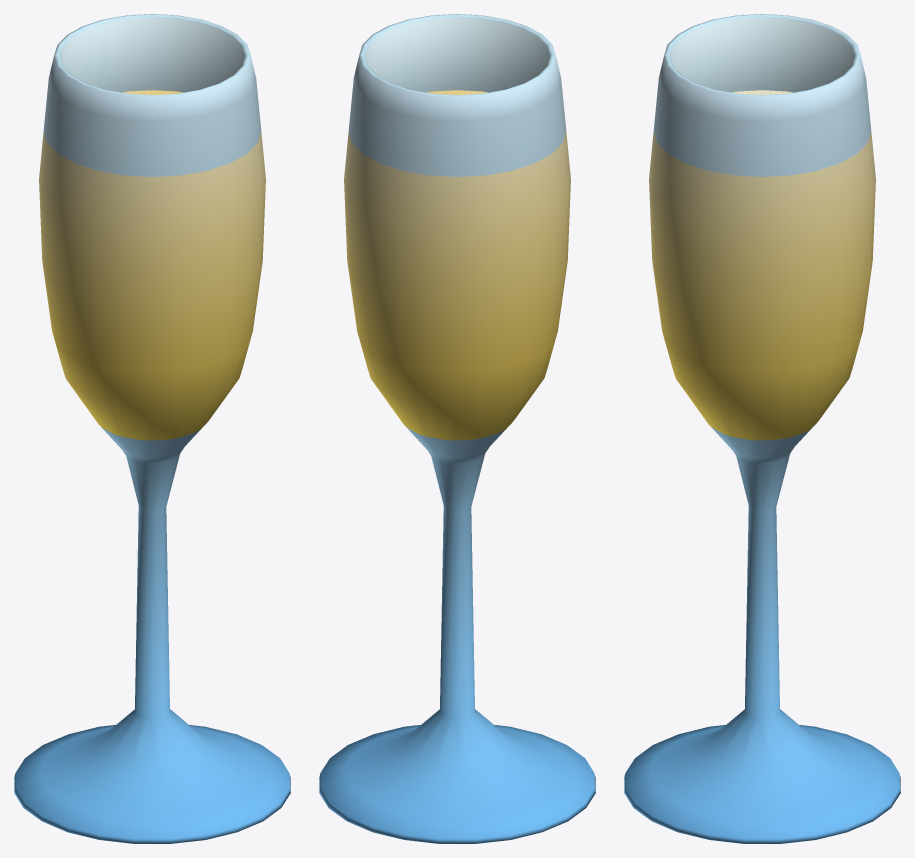
File: cocktail_008.fbx
3 renders of one model, left to right at view 1: azimuth 30°, elevation 25°; view 2: azimuth 150°, elevation 25°; view 3: azimuth 270°, elevation 25°, orthographic.
Visible parts, largest first — view 1: cocktail_008; view 2: cocktail_008; view 3: cocktail_008.
Boxes of the visible parts, left/top/right/bottom form: cocktail_008: left=14, top=14, right=290, bottom=843; cocktail_008: left=319, top=14, right=595, bottom=843; cocktail_008: left=624, top=14, right=900, bottom=843.
Bounding box in the file's own units: 7.66 × 7.66 × 22.32.
